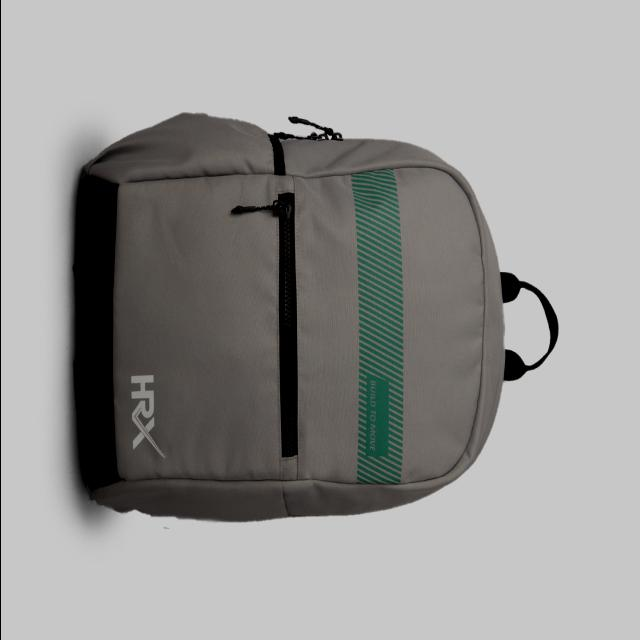backpack: (75, 114, 560, 524)
